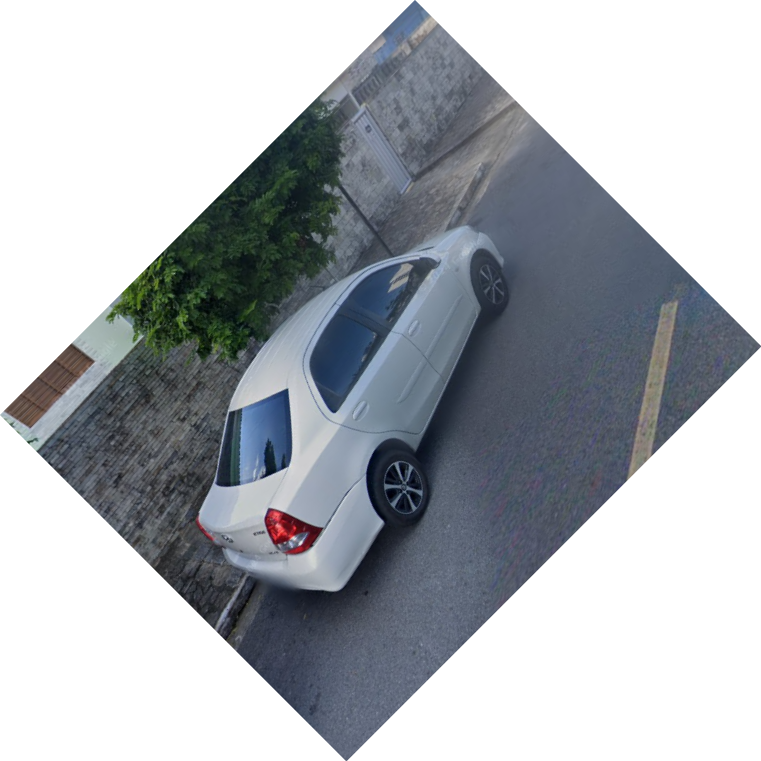car: (191, 221, 510, 595)
